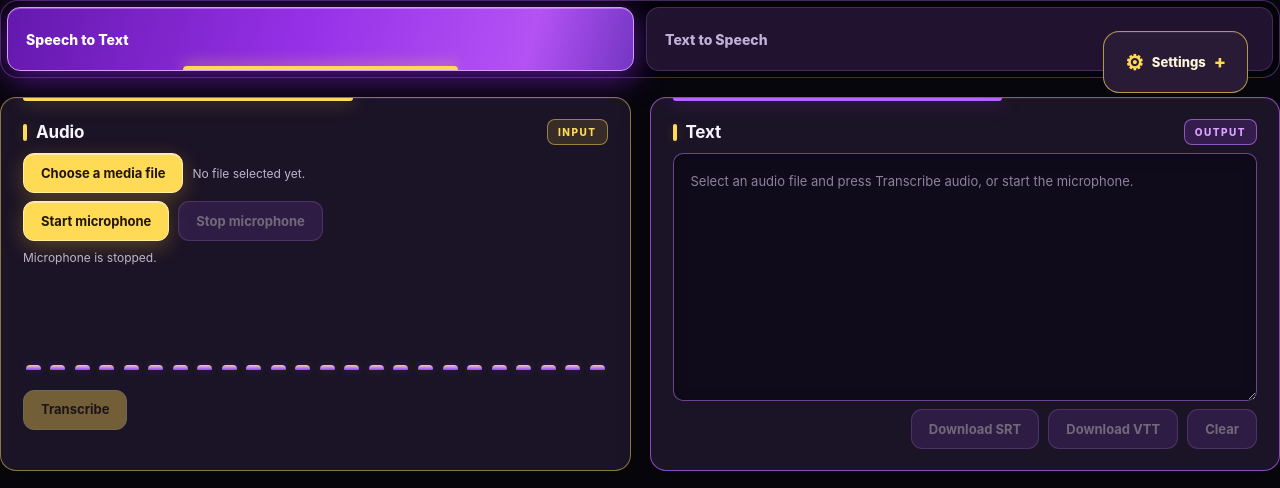
Scenario: bidirectional HomeScreen › opens and closes engine options without hiding the workspace
Click the button with aria-label "Engine settings": coordinates (1176, 62) [1103,31,1248,93]
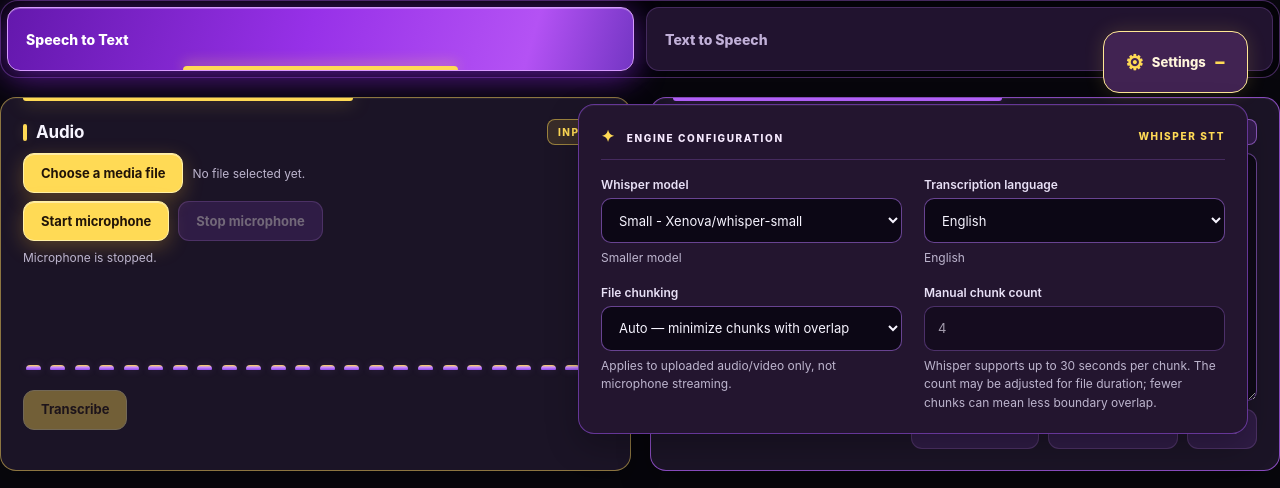
Expected: the element named "Audio pane" is shown, [0,97,630,471]
Now the button with aria-label "Engine settings" is expanded, box [1103,31,1248,93]
Press Escape
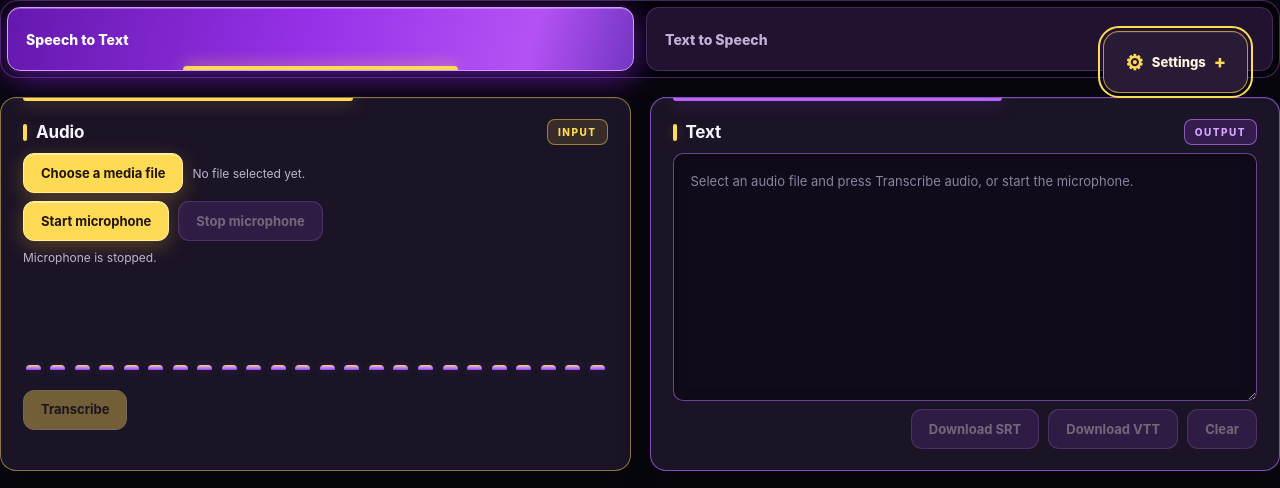
Now the button with aria-label "Engine settings" is collapsed
Click the button with aria-label "Engine settings": coordinates (1176, 62) [1103,31,1248,93]
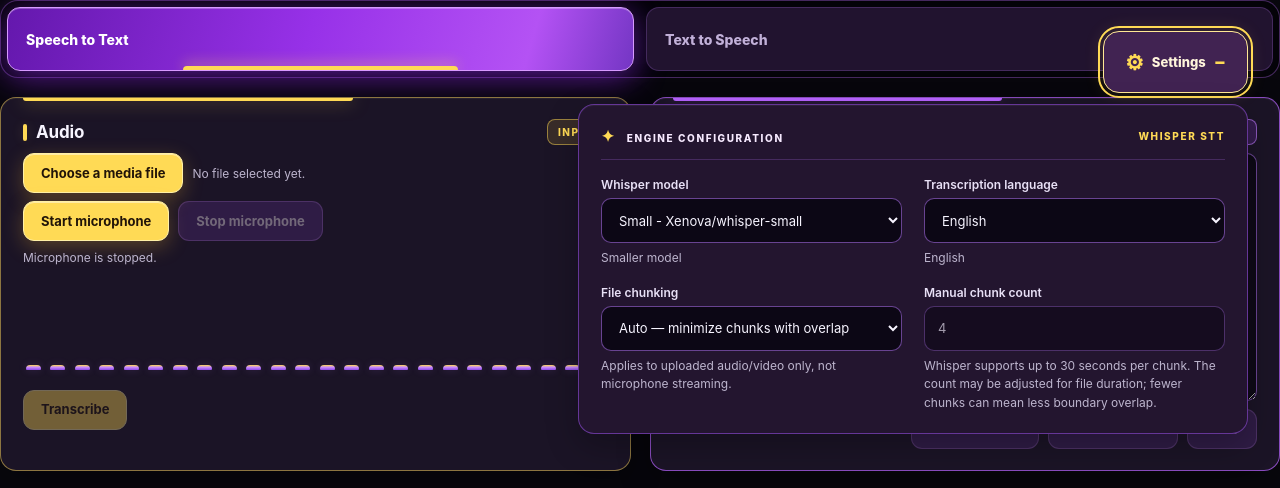
Press the mouse on the element named "Audio pane": coordinates (315, 284) [0,97,630,471]
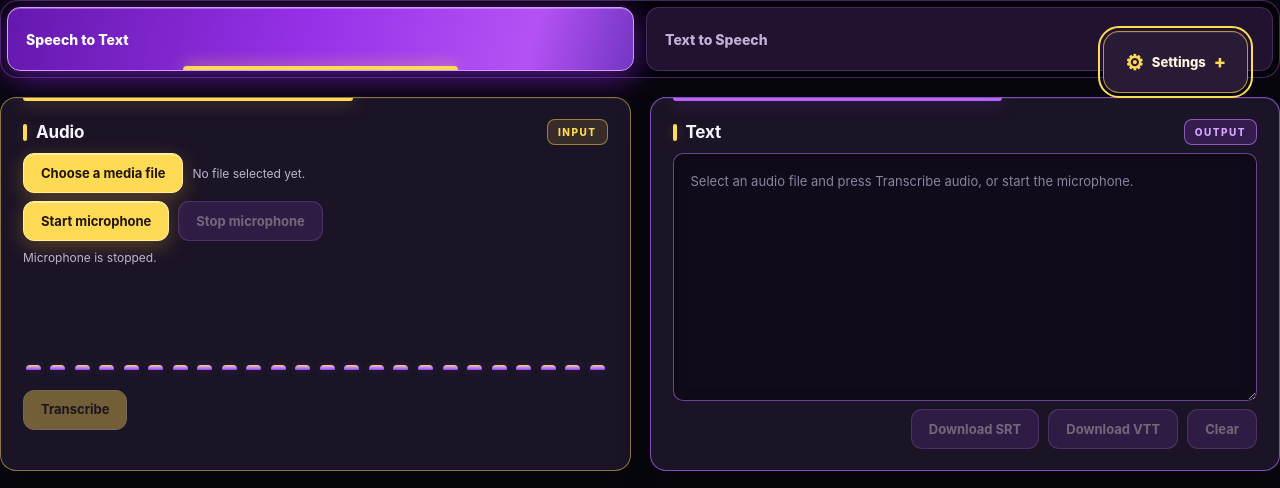
Now the button with aria-label "Engine settings" is collapsed, box [1103,31,1248,93]
